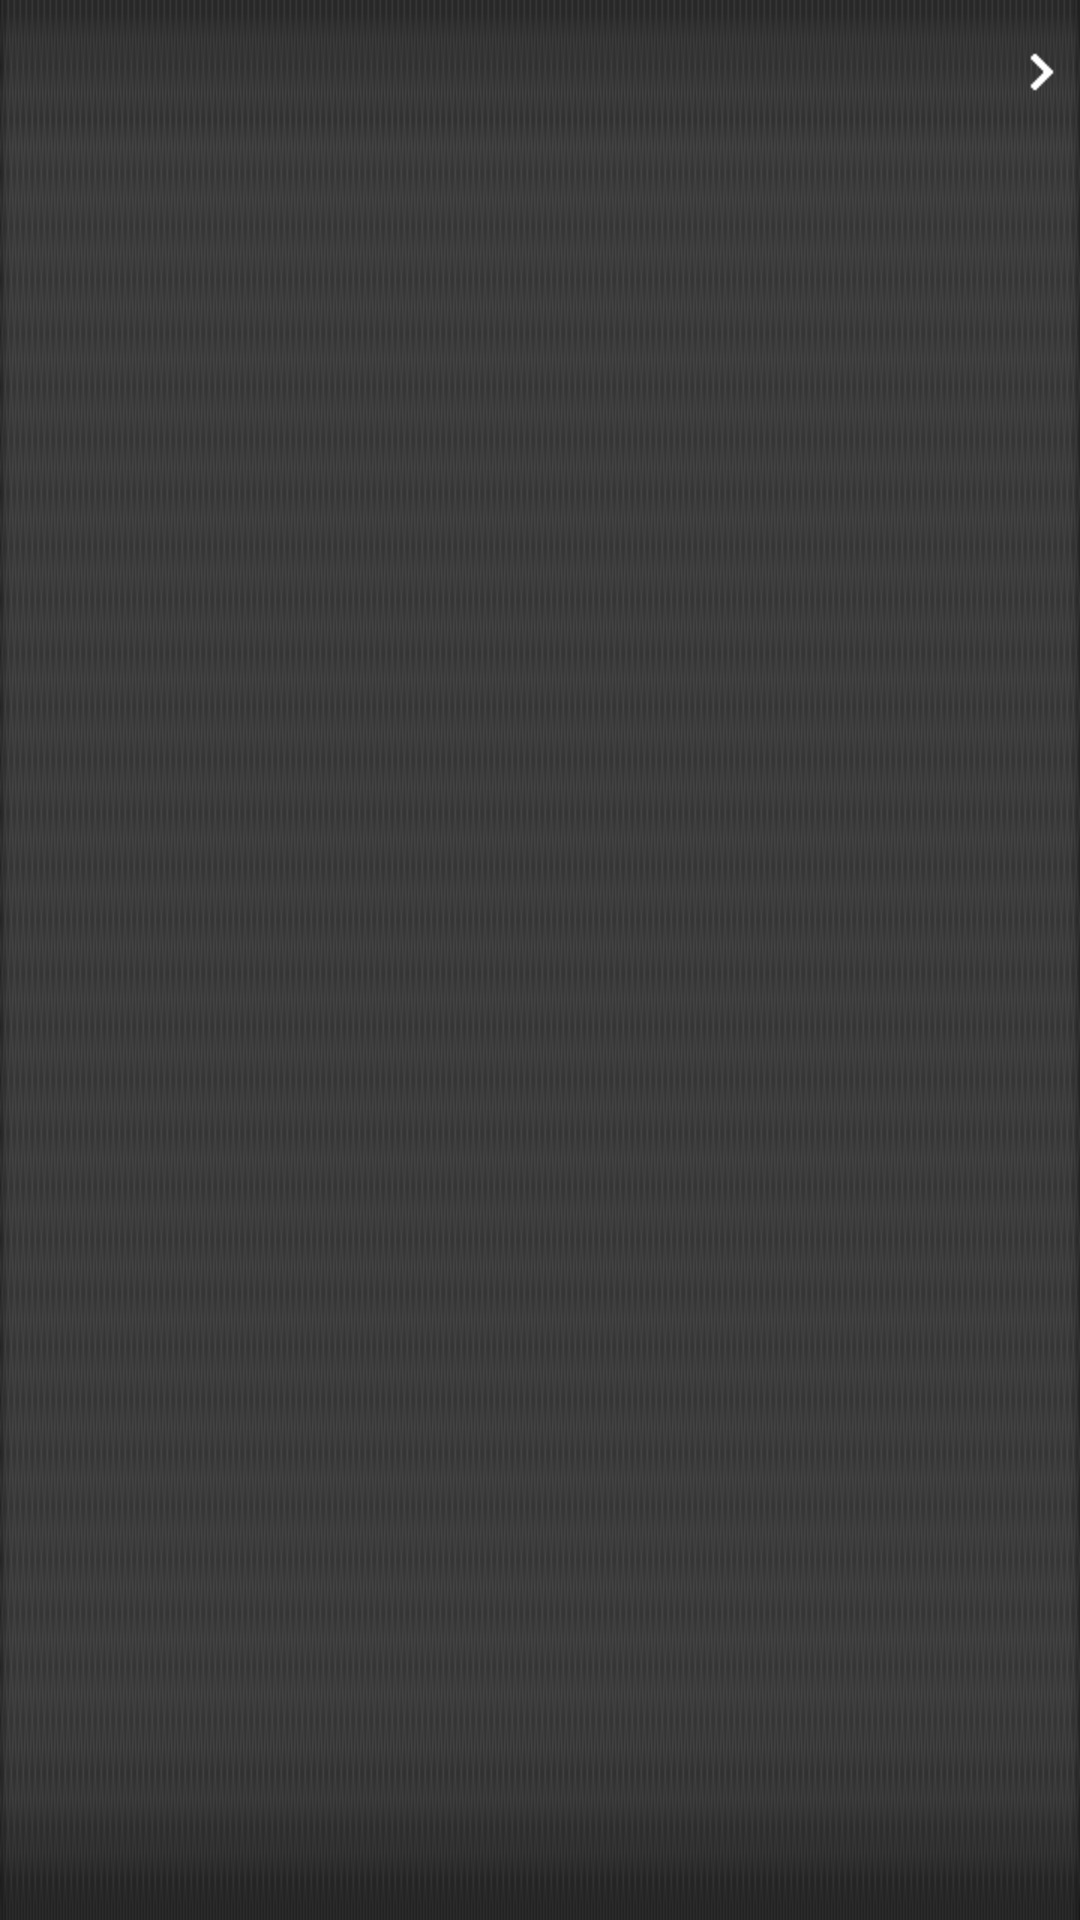

Where icons sit on this 1080 x 1920 app screen, as (x1, y1, x2, y2):
infobar arrow: (1030, 53, 1054, 91)
